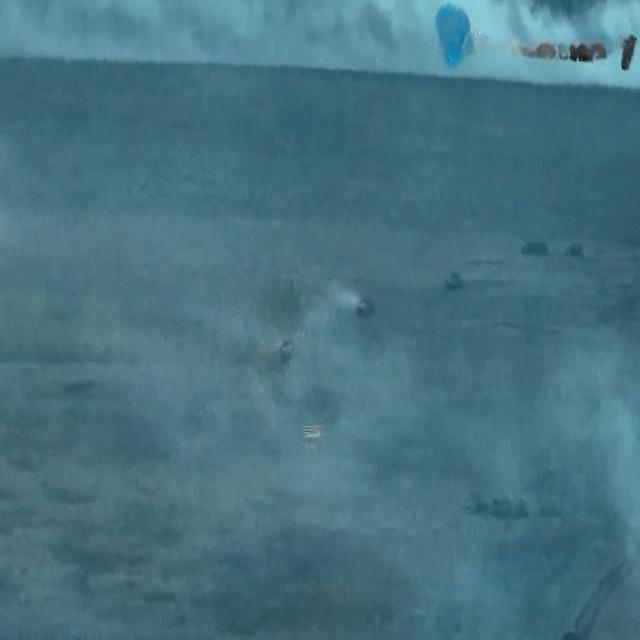AIFV: (358, 298, 377, 318), (280, 338, 295, 361), (448, 270, 463, 292)
APC: (467, 494, 488, 514), (516, 501, 530, 521)
Destroyed: (523, 241, 552, 259), (570, 243, 587, 261)
MBT: (491, 496, 514, 518)
